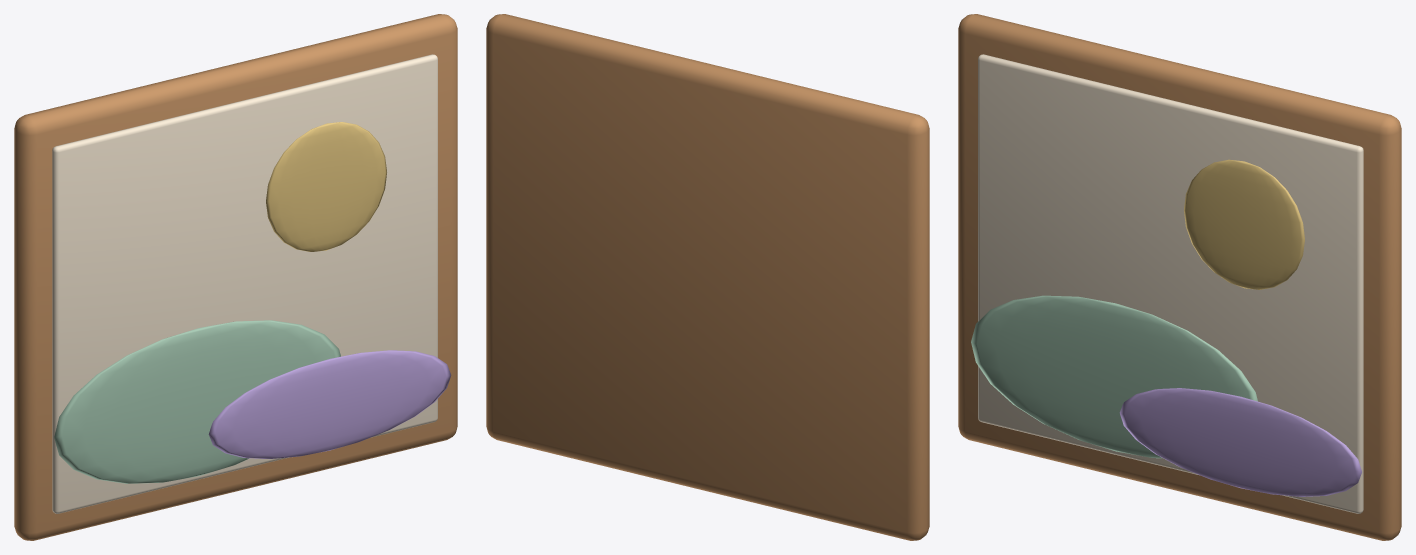
File: wall-art.glb
The picture shows the model from 3 angles, left to right: view 1: azimuth 30°, elevation 25°; view 2: azimuth 150°, elevation 25°; view 3: azimuth 330°, elevation 25°; orthographic projection.
Visible parts, largest first — view 1: AssetSurface; view 2: AssetSurface; view 3: AssetSurface.
Part boxes in pixels (x1,y1,x2,y2): AssetSurface: (14, 14, 457, 540); AssetSurface: (486, 14, 929, 540); AssetSurface: (958, 14, 1401, 540).
Size of the model in its own units: 1.3 by 1.2 by 0.139.
